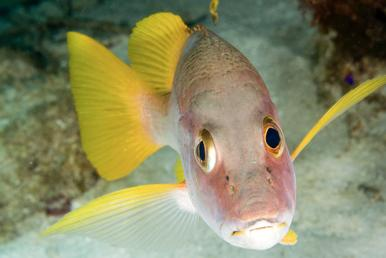Lutjanidae -Snappers-: (34, 9, 386, 258)
